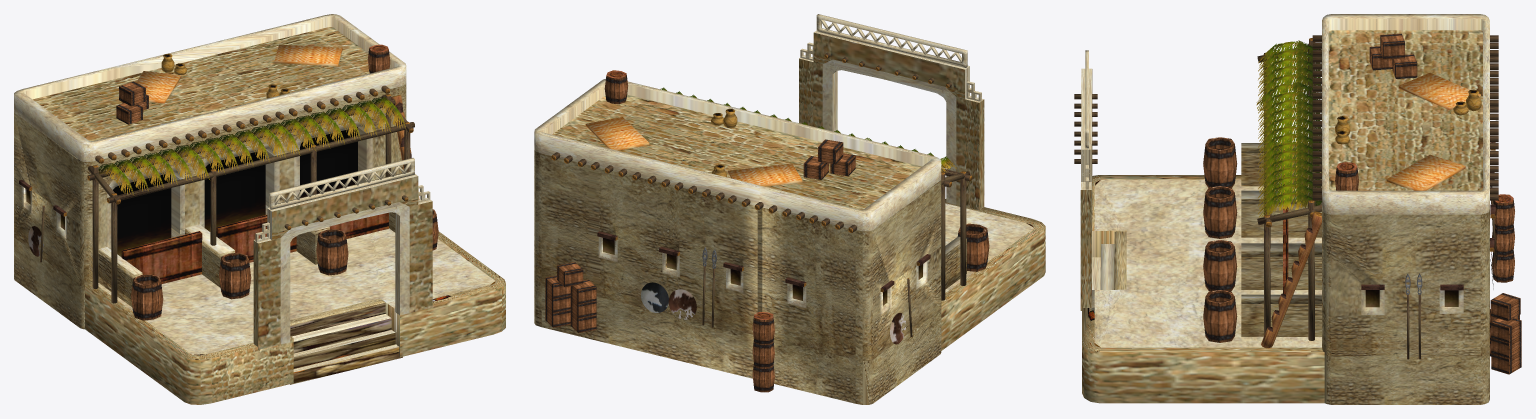
Rendered from stable_elephant.dae.
3 views of the same model, side by side, from view 1: azimuth 30°, elevation 25°; view 2: azimuth 150°, elevation 25°; view 3: azimuth 270°, elevation 25° (orthographic). The views are drawn at different scales.
Visible parts, largest first — view 1: stable_elef; view 2: stable_elef; view 3: stable_elef.
Part boxes in pixels (x1,y1,x2,y2): stable_elef: (14,14,505,404); stable_elef: (534,14,1045,404); stable_elef: (1074,14,1521,404).
Size of the model in its own units: 25.53 by 25.79 by 14.75.
